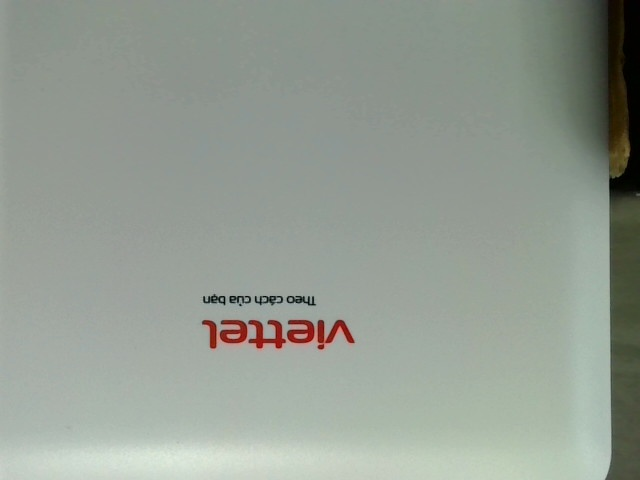AY_Viettel: (198, 289, 358, 351)
